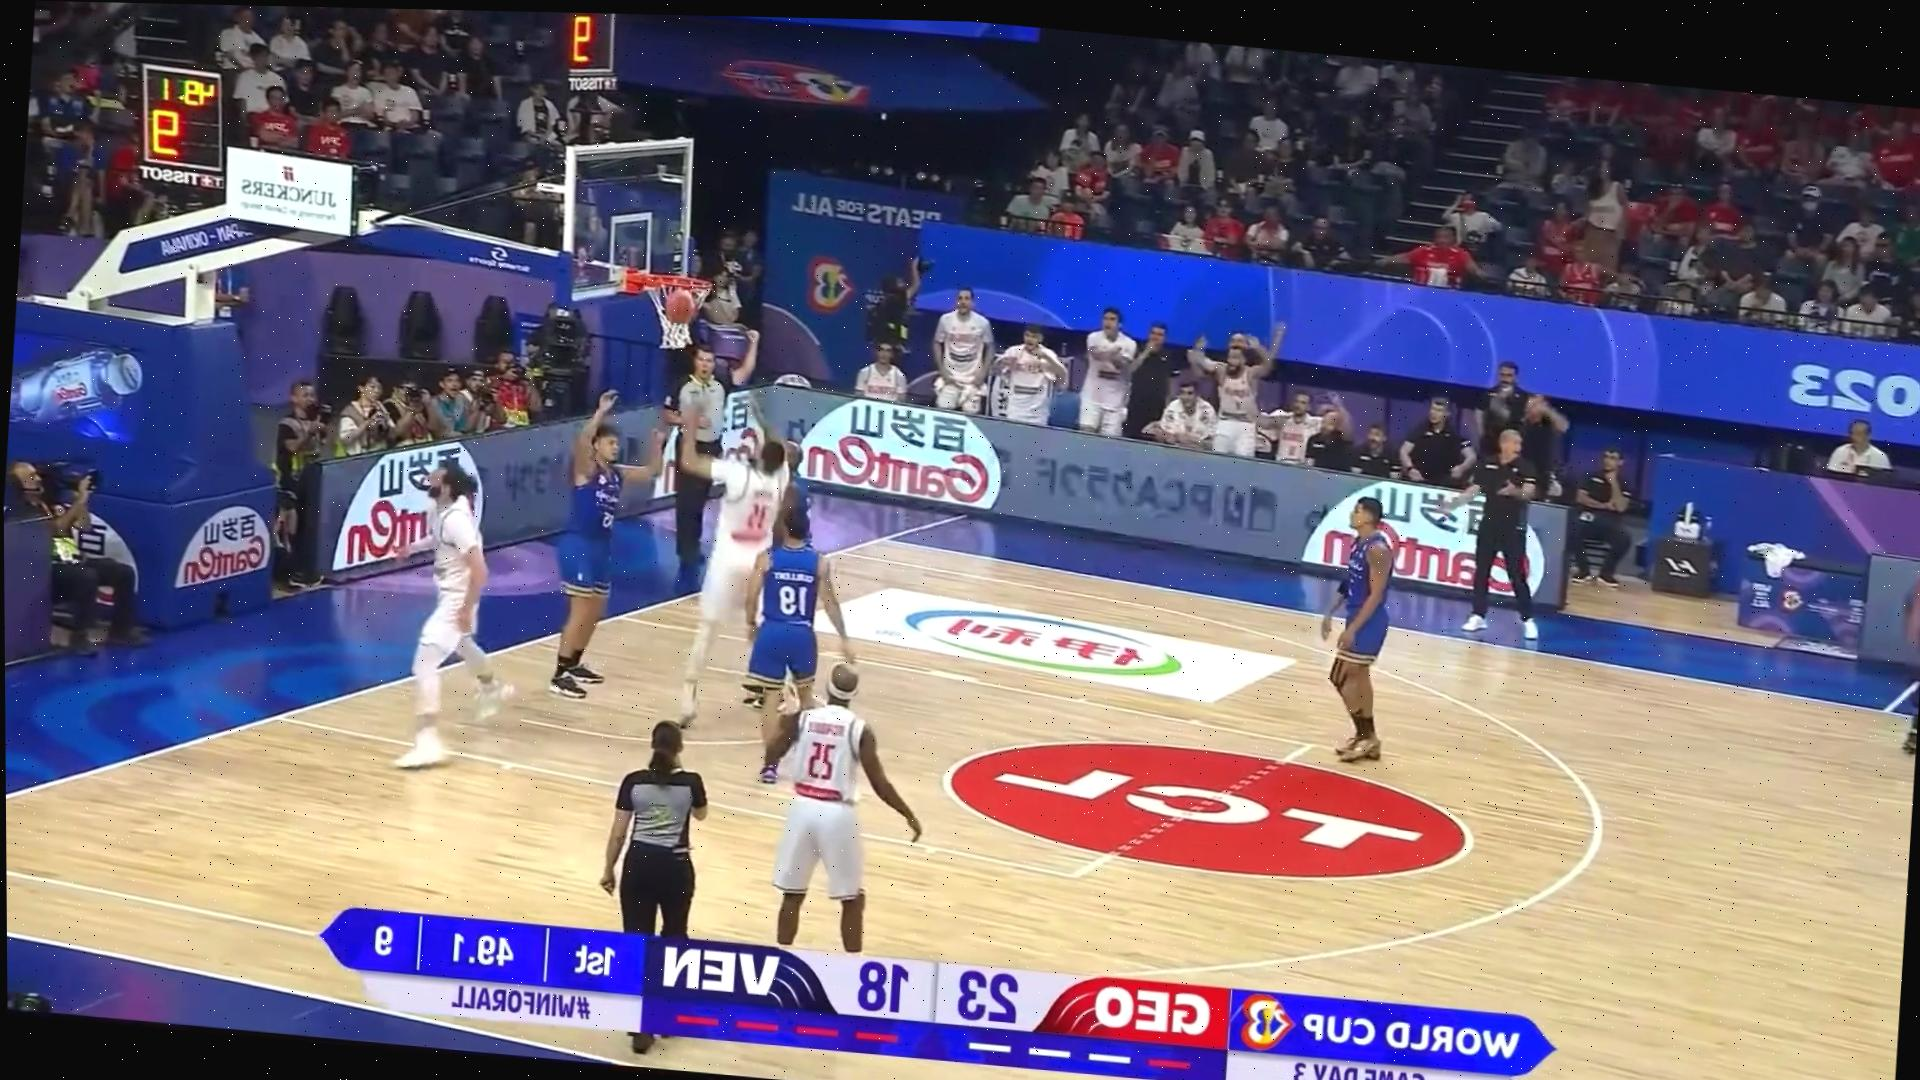no_foul: (381, 375, 678, 783)
